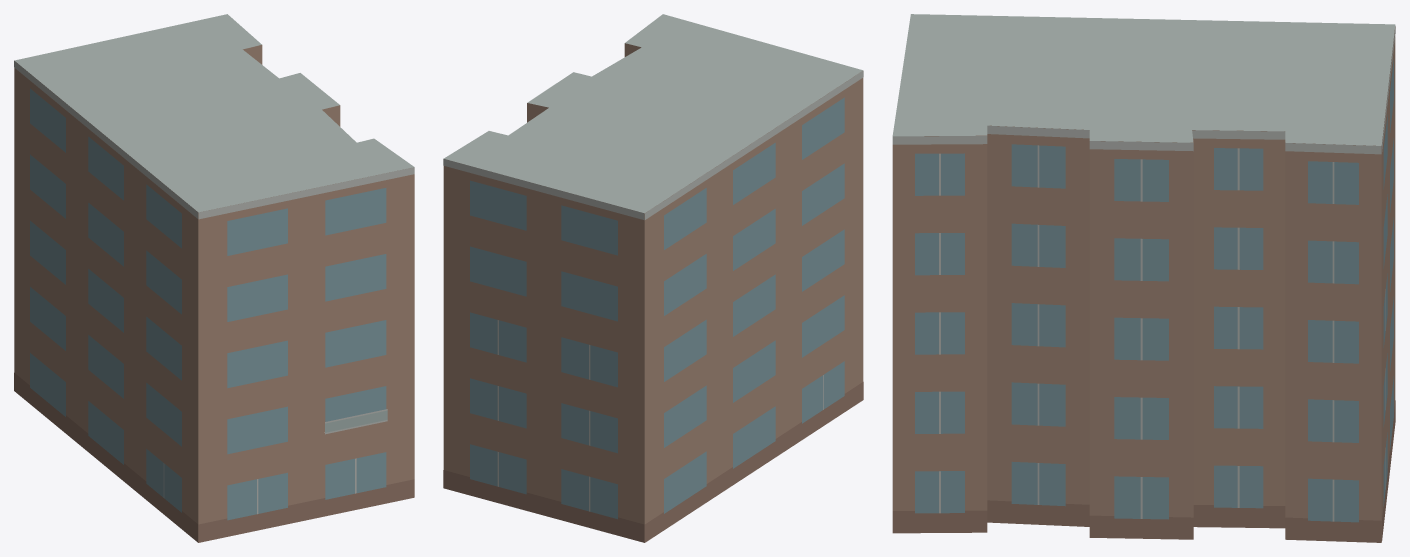
Rendered from survey-upis-32575932.glb.
The picture shows the model from 3 angles, left to right: view 1: azimuth 30°, elevation 25°; view 2: azimuth 150°, elevation 25°; view 3: azimuth 270°, elevation 25°; orthographic projection. The views are drawn at different scales.
Visible parts, largest first — view 1: survey-upis-32575932.tmp; view 2: survey-upis-32575932.tmp; view 3: survey-upis-32575932.tmp.
Boxes of the visible parts, <box> form: survey-upis-32575932.tmp: <box>14,14,414,542</box>; survey-upis-32575932.tmp: <box>443,14,863,542</box>; survey-upis-32575932.tmp: <box>892,14,1395,542</box>.
Bounding box in the file's own units: 8.21 × 11.5 × 13.22.
